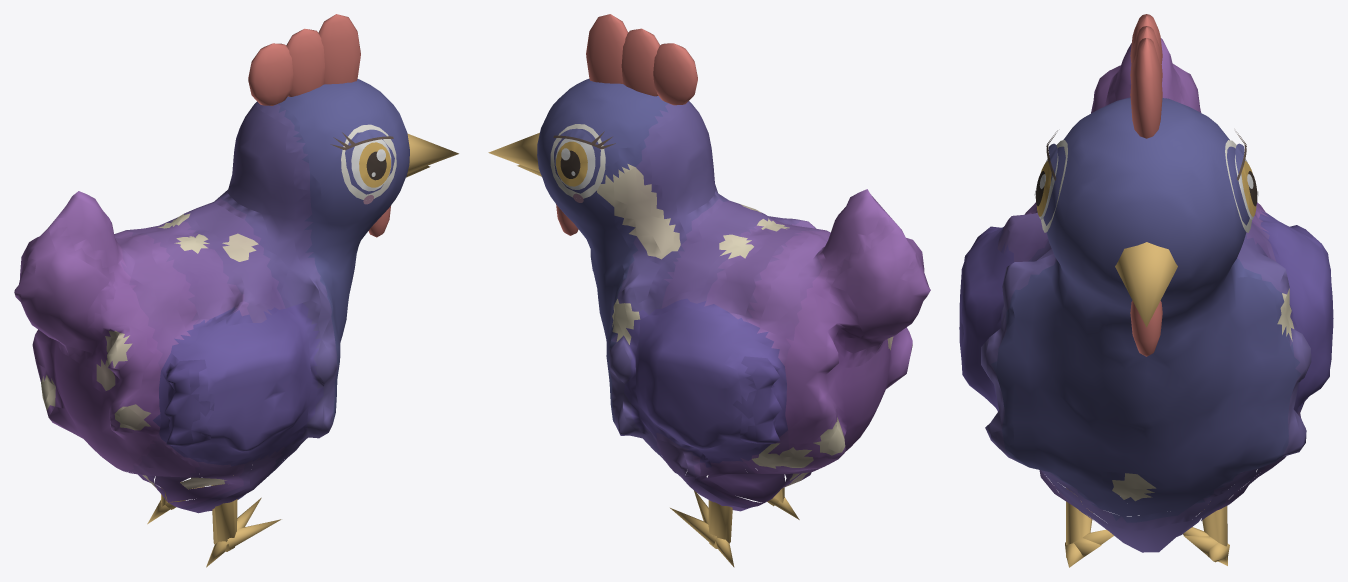
Rendered from galaxy_chicken.glb.
3 views of the same model, side by side, from view 1: azimuth 30°, elevation 25°; view 2: azimuth 150°, elevation 25°; view 3: azimuth 270°, elevation 25° (orthographic). The views are drawn at different scales.
Visible parts, largest first — view 1: galaxy_chicken; view 2: galaxy_chicken; view 3: galaxy_chicken.
Boxes of the visible parts, x1,y1,x2,y2 form: galaxy_chicken: (14,14,458,567); galaxy_chicken: (488,14,930,567); galaxy_chicken: (959,14,1333,567).
Size of the model in its own units: 0.5326 by 0.5665 by 0.3072.
